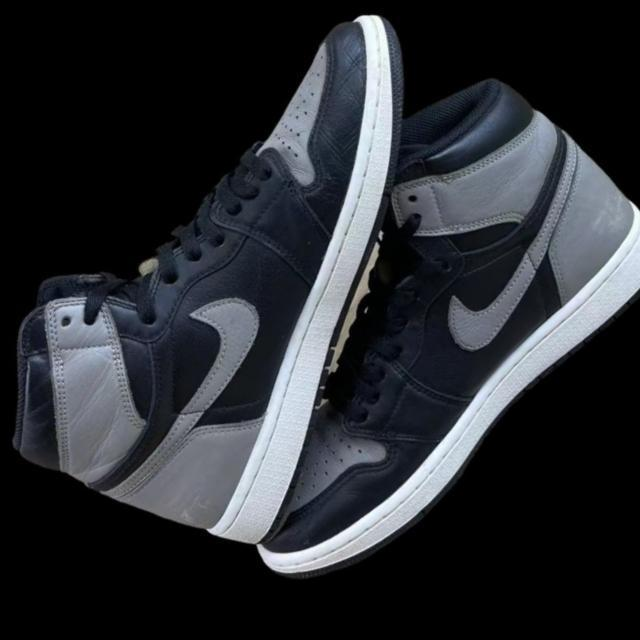nike original jordan 1: (0, 0, 640, 640), (101, 42, 640, 618)
